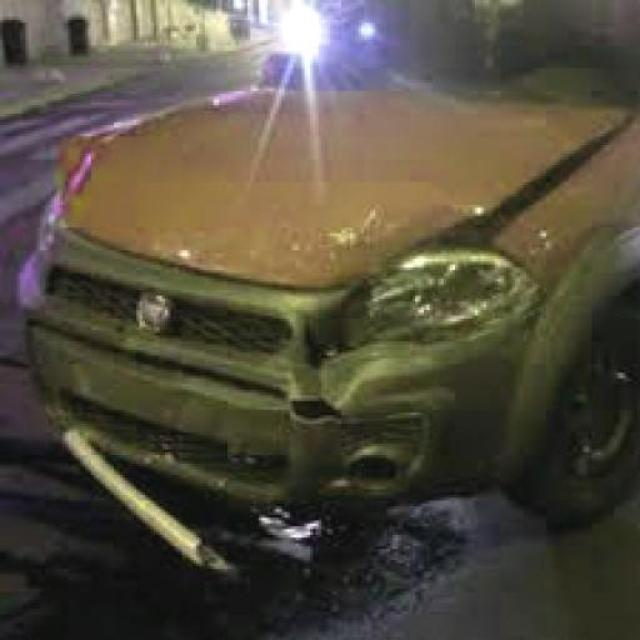car damage: (68, 191, 536, 570)
